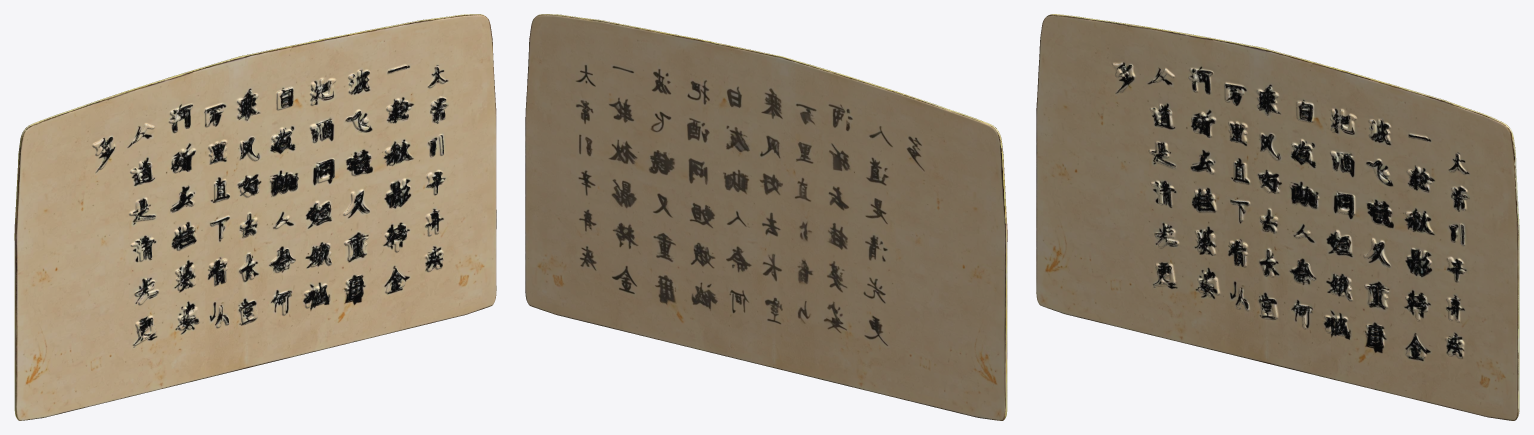
Rendered from paint.glb.
3 renders of one model, left to right at view 1: azimuth 30°, elevation 25°; view 2: azimuth 150°, elevation 25°; view 3: azimuth 330°, elevation 25°, orthographic.
Parts seen in each view (by area): view 1: mesh; view 2: mesh; view 3: mesh.
Part boxes in pixels (x1,y1,x2,y2): mesh: (14,14,496,420); mesh: (525,14,1007,420); mesh: (1036,14,1519,420).
Size of the model in its own units: 2 by 1.24 by 0.0223.
1 material, 1 textured.
